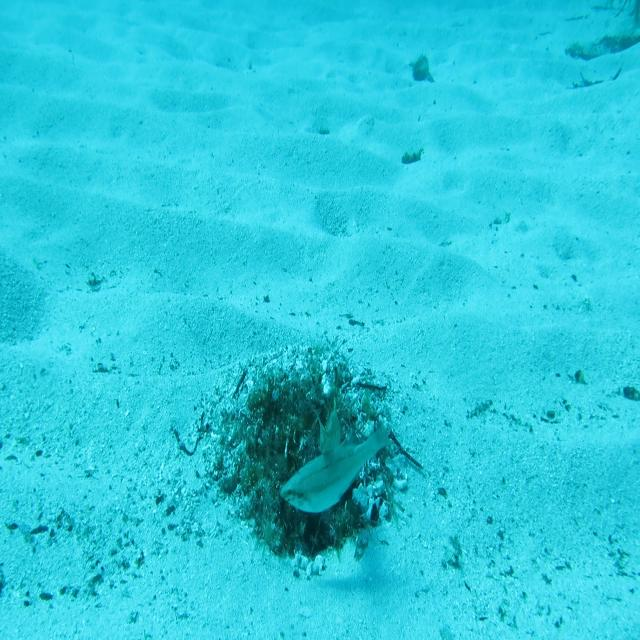MAN: (314, 396, 342, 460)
core_nest: (276, 396, 328, 440)
female: (278, 418, 392, 516)
nest: (194, 332, 414, 594)
vegetation: (565, 0, 640, 98), (408, 56, 438, 85), (396, 146, 426, 165)
